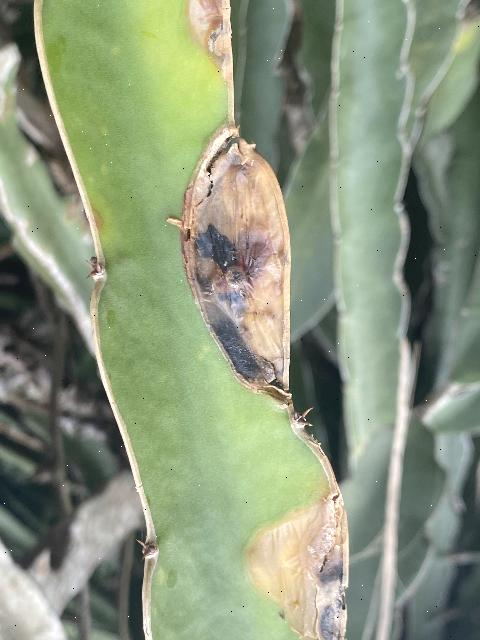stemcanker: (174, 118, 293, 401), (239, 491, 350, 640)
